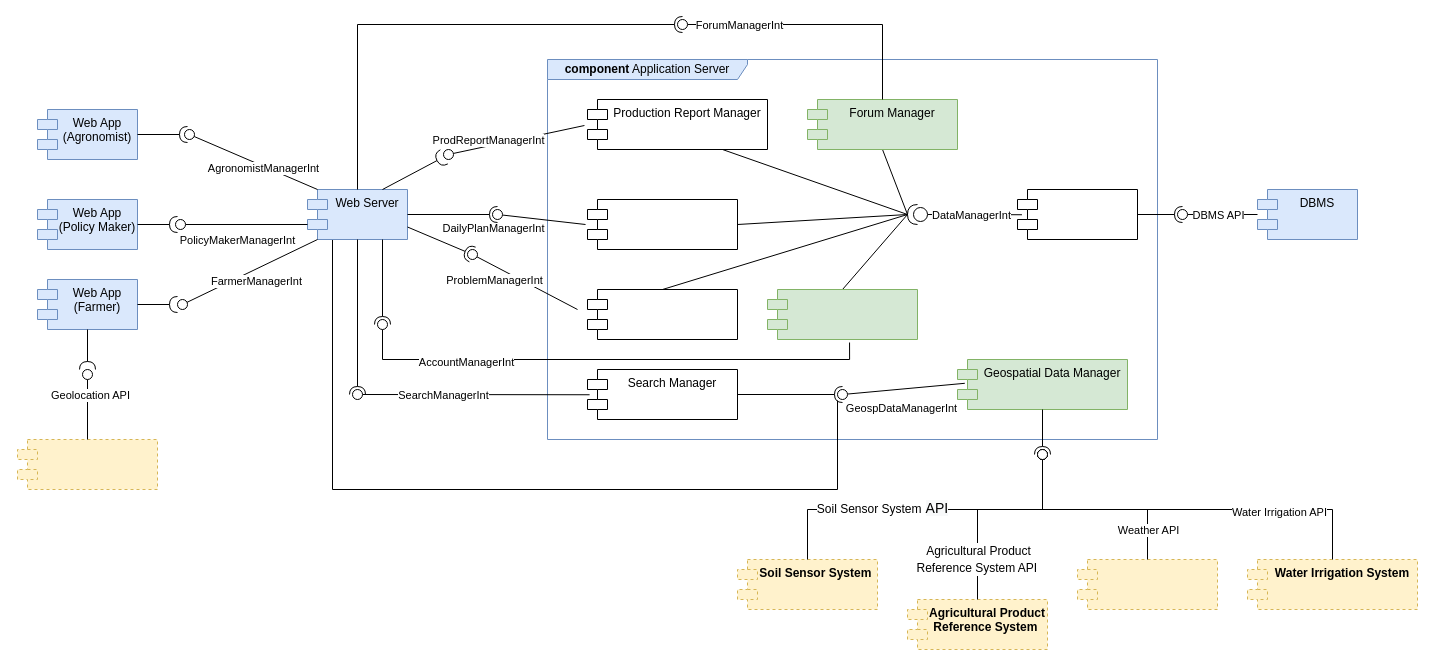
The diagram is 1435 pixels wide and 667 high, and some of its shapes have lost their labels. The shapes that lost their labels are listed below. From the top down, each one's box as (x1, y1, x2, y2) in pixels, then its label:
(586, 198, 738, 250): Daily Plan Manager
(1016, 188, 1138, 240): Data Manager
(586, 288, 738, 340): Problem Manager
(766, 288, 918, 340): Account Manager
(16, 438, 158, 490): Google Maps Platform
(1076, 558, 1218, 610): Weather Service
